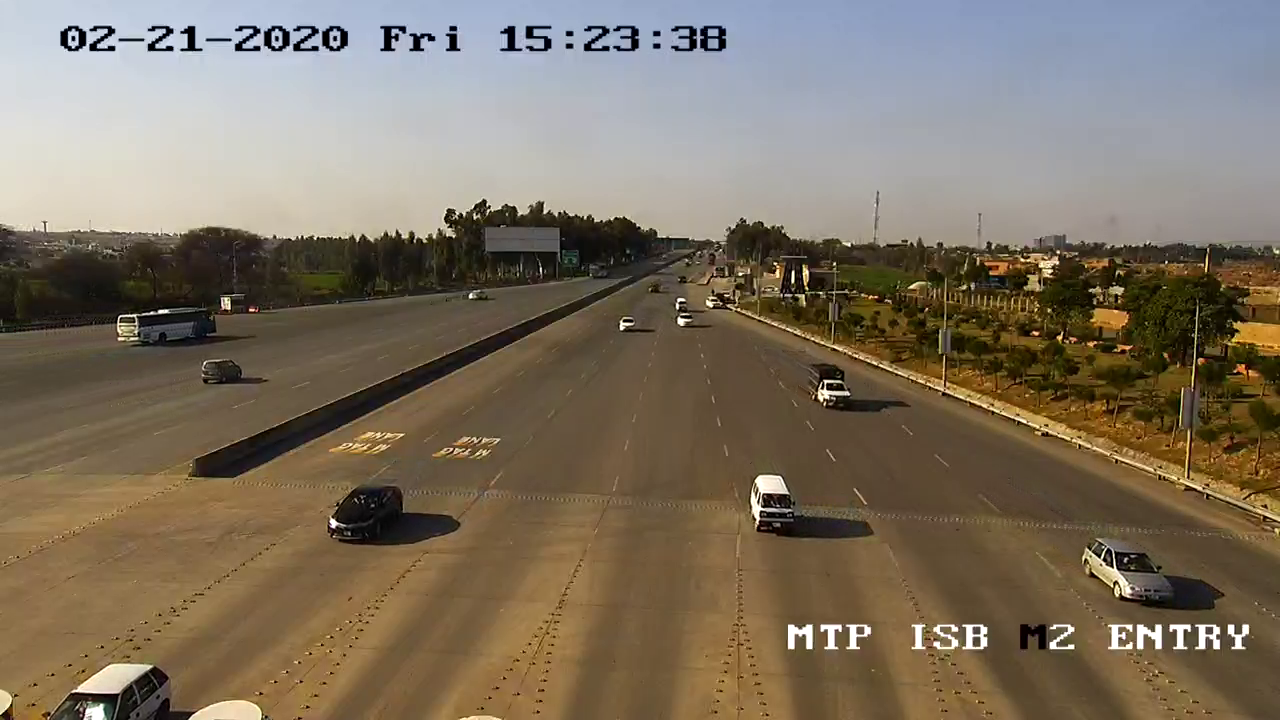f1: (1076, 530, 1178, 620), (319, 477, 413, 550), (741, 470, 803, 542)
